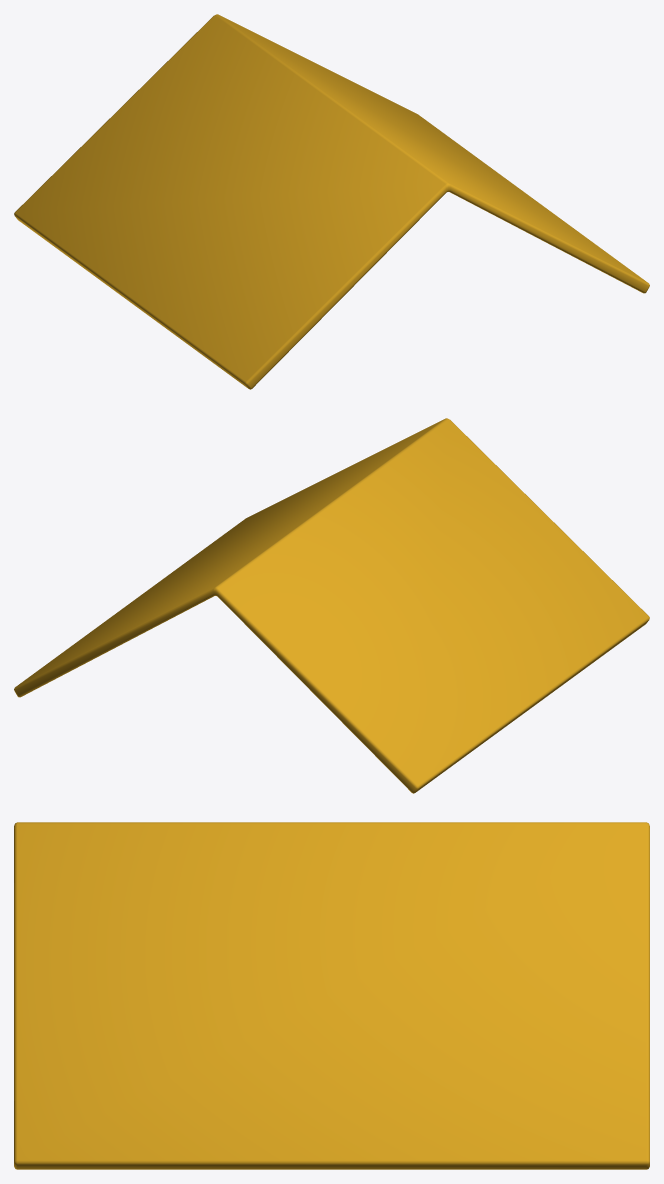
File: FM_H_Doll_SH_Roof_Tile_001.fbx
3 views of the same model, one above another, from view 1: azimuth 30°, elevation 25°; view 2: azimuth 150°, elevation 25°; view 3: azimuth 270°, elevation 25° (orthographic). The views are drawn at different scales.
Parts seen in each view (by area): view 1: FM_H_Doll_SH_Roof_Tile_001; view 2: FM_H_Doll_SH_Roof_Tile_001; view 3: FM_H_Doll_SH_Roof_Tile_001.
Part boxes in pixels (bbox=[...]): FM_H_Doll_SH_Roof_Tile_001: bbox=[14, 14, 649, 389]; FM_H_Doll_SH_Roof_Tile_001: bbox=[14, 418, 649, 793]; FM_H_Doll_SH_Roof_Tile_001: bbox=[14, 822, 649, 1169].
Bounding box in the file's own units: 7.21 × 2.69 × 7.2.
